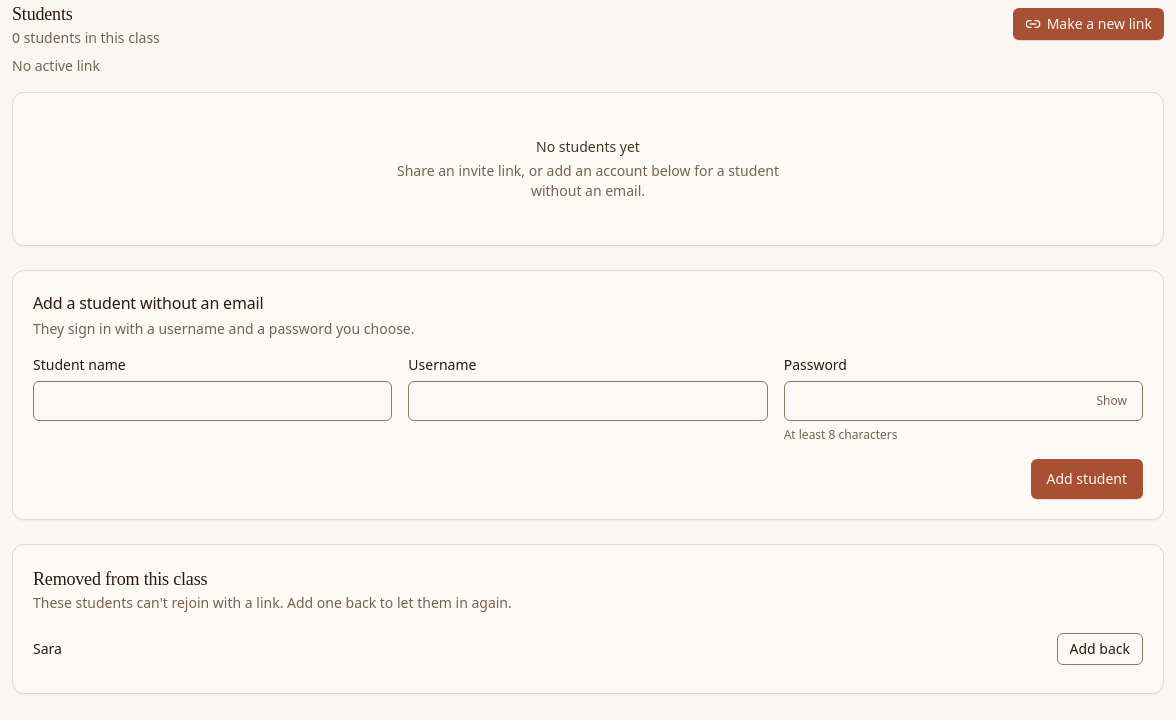
Test: a removed student is listed and the tutor can add them back
Expected: the heading "Removed from this class" is shown, [33,569,207,589]
Click the button with aria-label "Add Sara back to this class": [1100, 649] box [1056,633,1143,665]
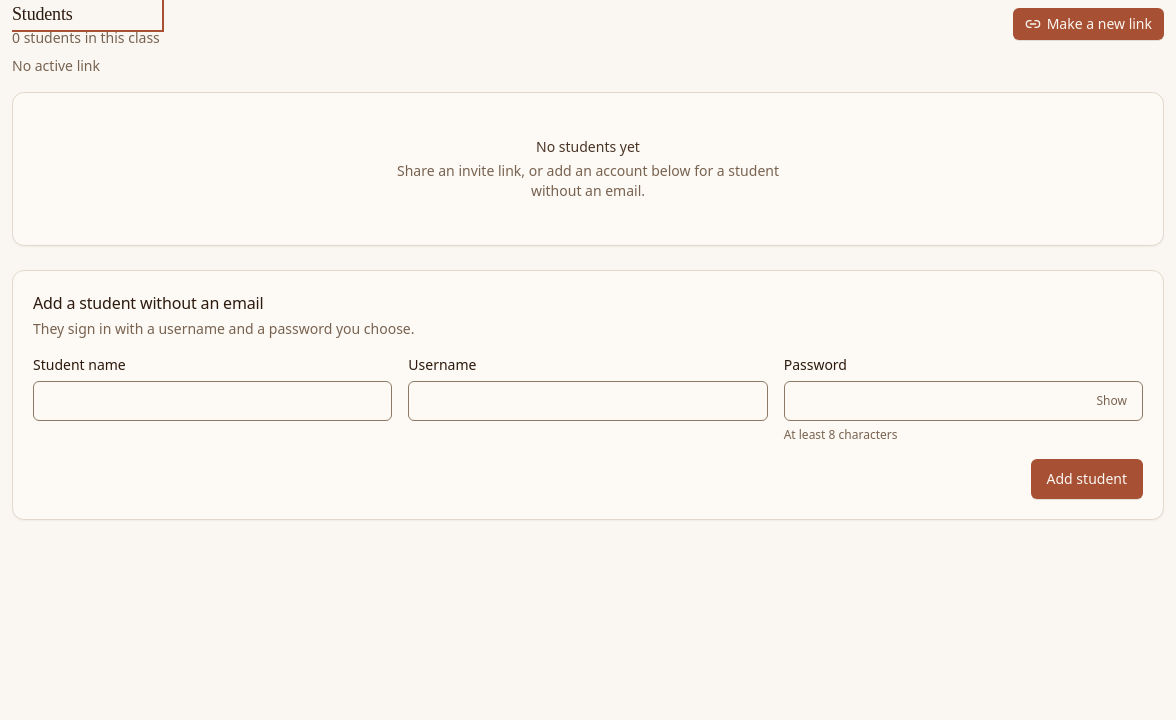
Expected: the heading "Removed from this class" is gone
